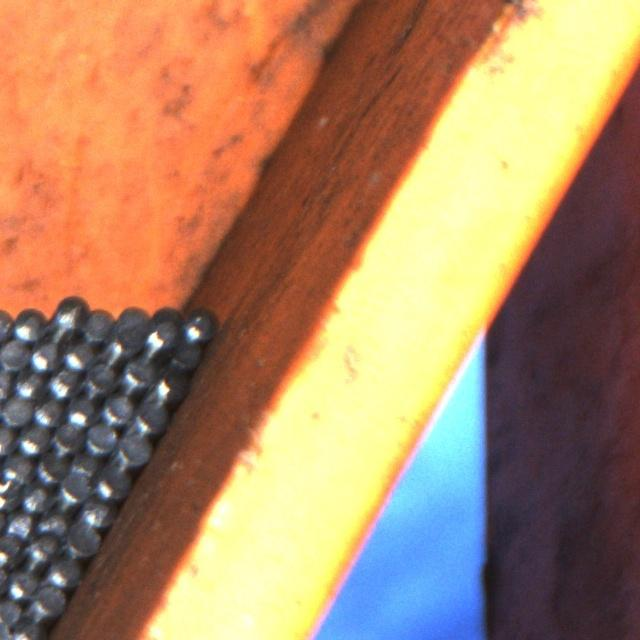tool: (28, 337, 62, 370), (120, 358, 154, 391), (114, 308, 148, 341), (100, 393, 133, 426), (57, 472, 90, 505), (48, 308, 80, 342), (68, 450, 102, 482), (148, 308, 180, 342), (32, 394, 64, 427), (24, 532, 57, 564), (34, 451, 66, 484), (13, 310, 46, 342), (80, 365, 113, 397), (118, 431, 150, 464), (47, 554, 80, 586), (134, 395, 166, 428), (36, 505, 70, 536), (46, 366, 78, 398), (12, 367, 44, 399), (1, 452, 33, 484), (63, 338, 95, 370), (17, 422, 49, 454), (138, 330, 170, 362), (64, 396, 97, 427), (81, 309, 112, 342), (1, 395, 32, 427), (85, 421, 116, 453), (51, 421, 82, 453), (20, 481, 52, 512), (95, 334, 126, 366), (65, 524, 96, 556), (30, 584, 62, 615), (80, 496, 111, 527), (182, 310, 213, 341), (5, 510, 36, 540), (0, 339, 28, 372), (7, 568, 37, 598), (169, 339, 199, 369), (146, 375, 177, 404), (99, 452, 129, 481), (92, 469, 121, 498), (0, 596, 21, 628), (0, 534, 21, 566), (8, 620, 41, 640), (0, 478, 18, 510), (0, 424, 17, 456)
